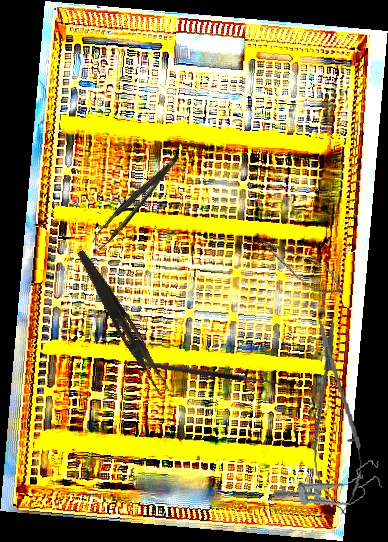Dressing Forceps: (69, 248, 176, 397)
Hook Surgical: (140, 353, 289, 388)
Micro Scissor: (300, 312, 369, 518), (246, 225, 351, 305)
Speculum: (271, 458, 387, 521)
Tissue Forceps: (86, 154, 190, 251)
